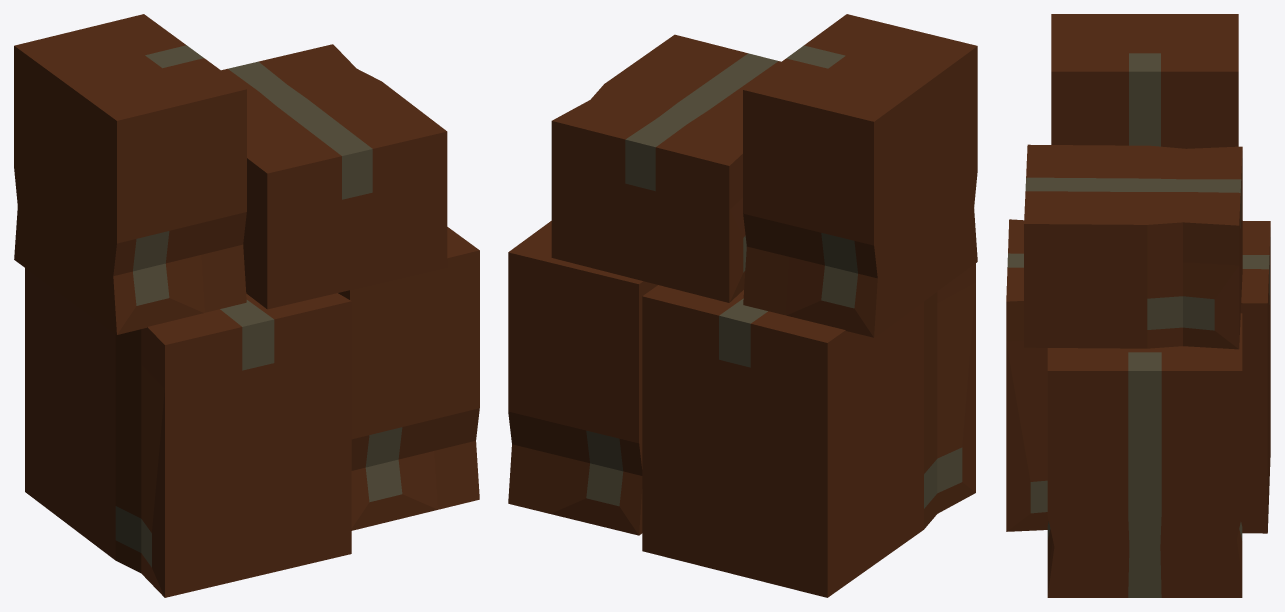
Rendered from CardboardBoxes_4.obj.
3 views of the same model, side by side, from view 1: azimuth 30°, elevation 25°; view 2: azimuth 150°, elevation 25°; view 3: azimuth 270°, elevation 25° (orthographic). The views are drawn at different scales.
Parts seen in each view (by area): view 1: CardboardBoxes_4_Cube.054; view 2: CardboardBoxes_4_Cube.054; view 3: CardboardBoxes_4_Cube.054.
Part boxes in pixels (x1,y1,x2,y2): CardboardBoxes_4_Cube.054: [14, 14, 479, 597]; CardboardBoxes_4_Cube.054: [508, 14, 977, 597]; CardboardBoxes_4_Cube.054: [1006, 14, 1270, 597].
Size of the model in its own units: 1.42 by 1.75 by 0.9863.
